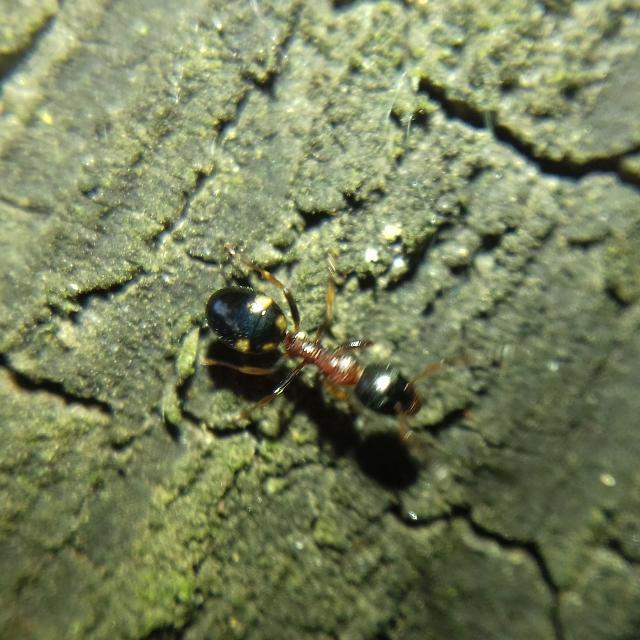Dolichoderus: (164, 231, 468, 453)
